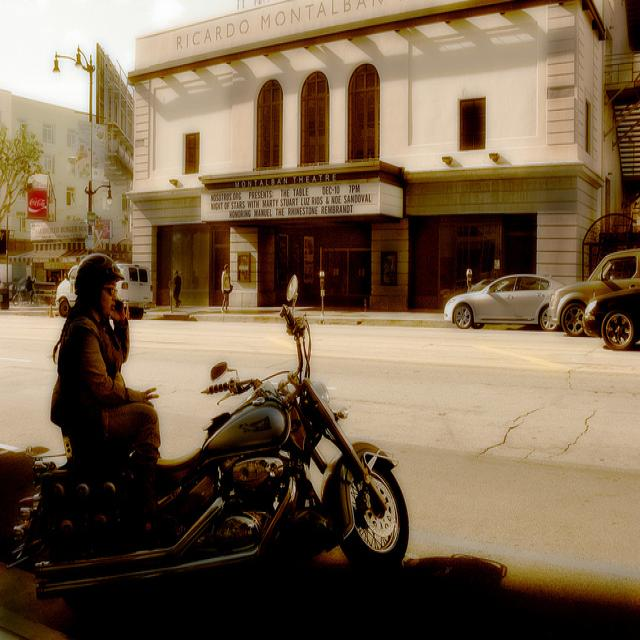motor: (12, 275, 410, 600)
